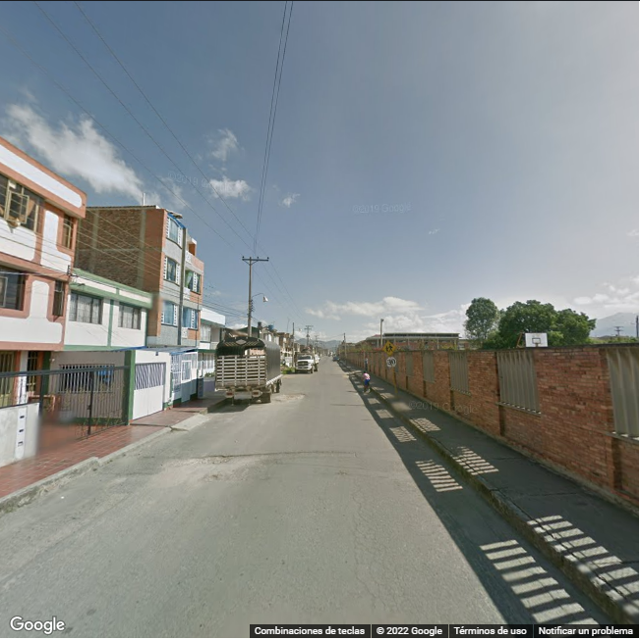D00: (484, 520, 575, 614), (353, 531, 377, 622), (367, 566, 402, 615), (348, 485, 375, 526)
D40: (195, 448, 232, 470)
